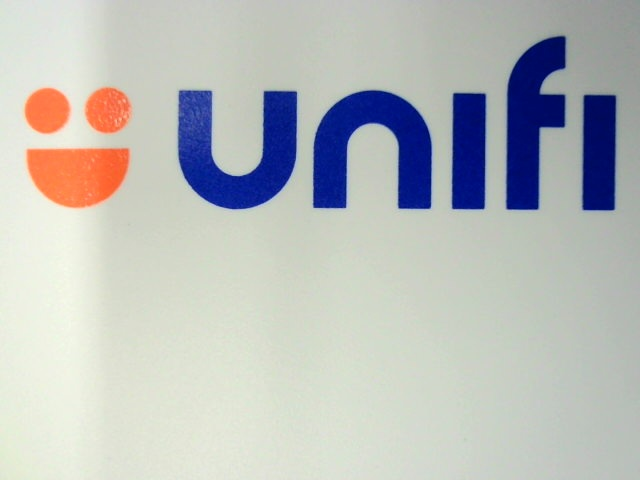BN_unifi: (14, 36, 619, 213)
